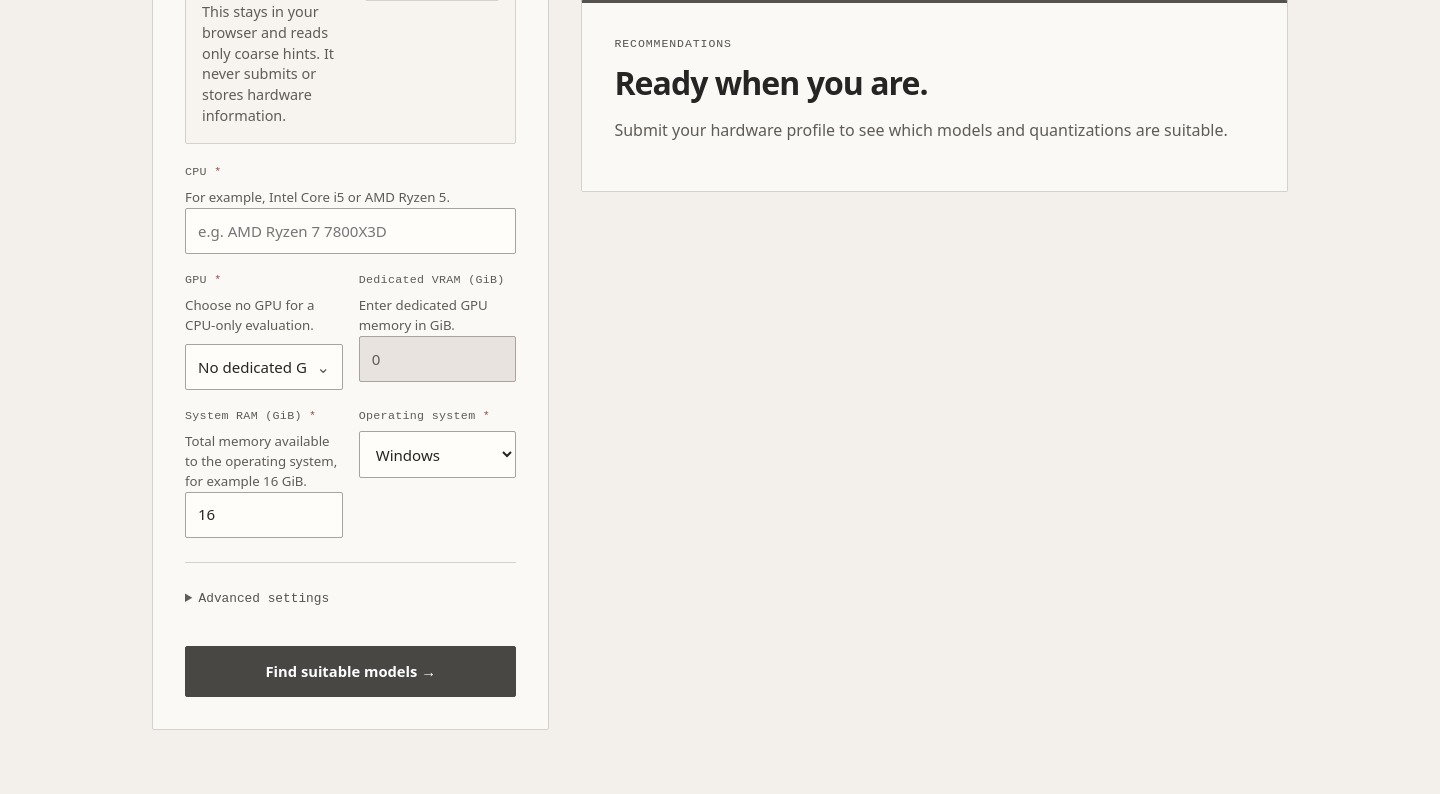
Test case: recommendations interface › includes GPT-OSS with sourced size and runtime caveats in recommendation results
(page scrolled)
Replace the text in the number field labelled "System RAM (GiB)" with "128". click: coordinates (264, 515)
box: [185,492,343,538]
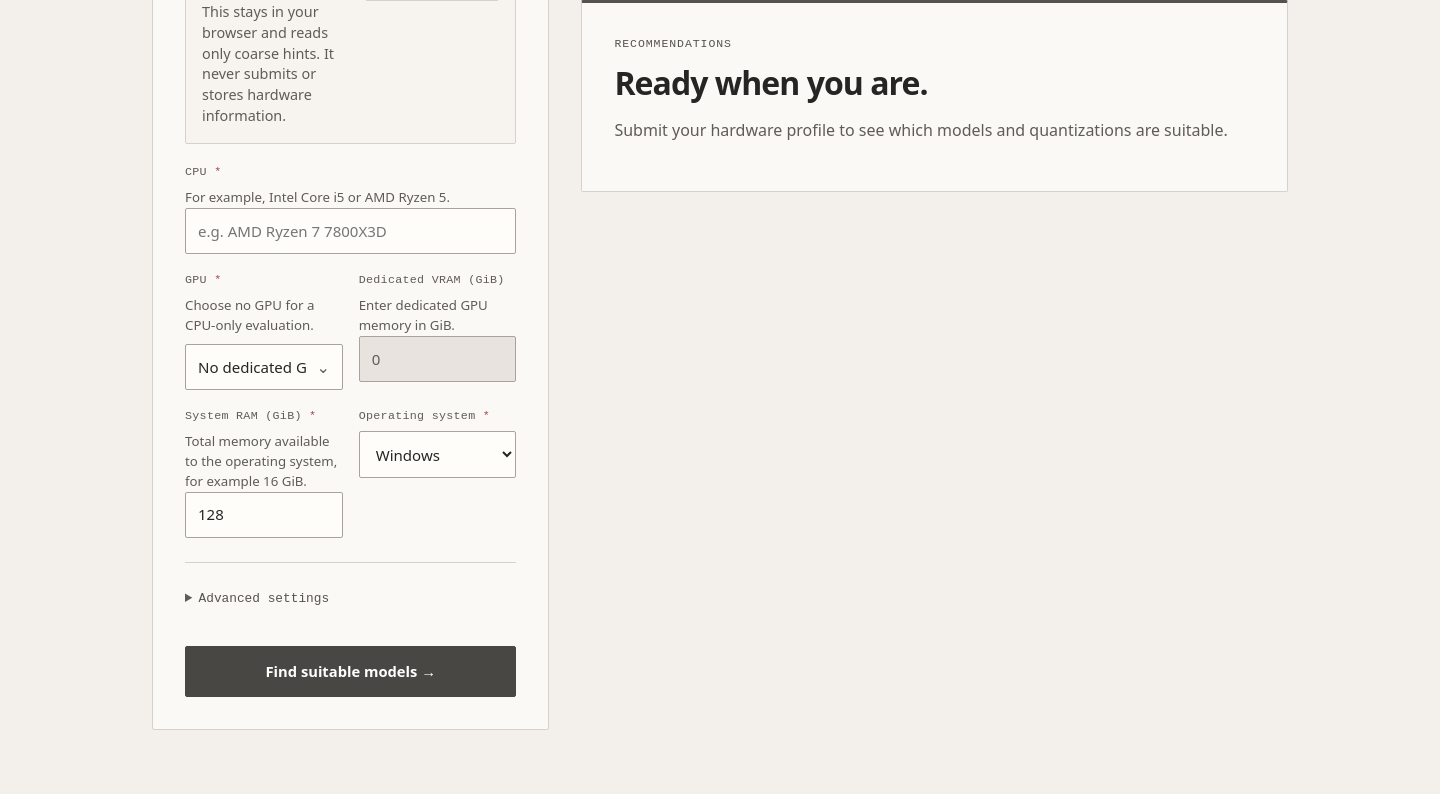
Type "AMD Ryzen 7 7800X3D" into the field labelled "CPU". click: coordinates (351, 231)
box: [185,208,516,254]
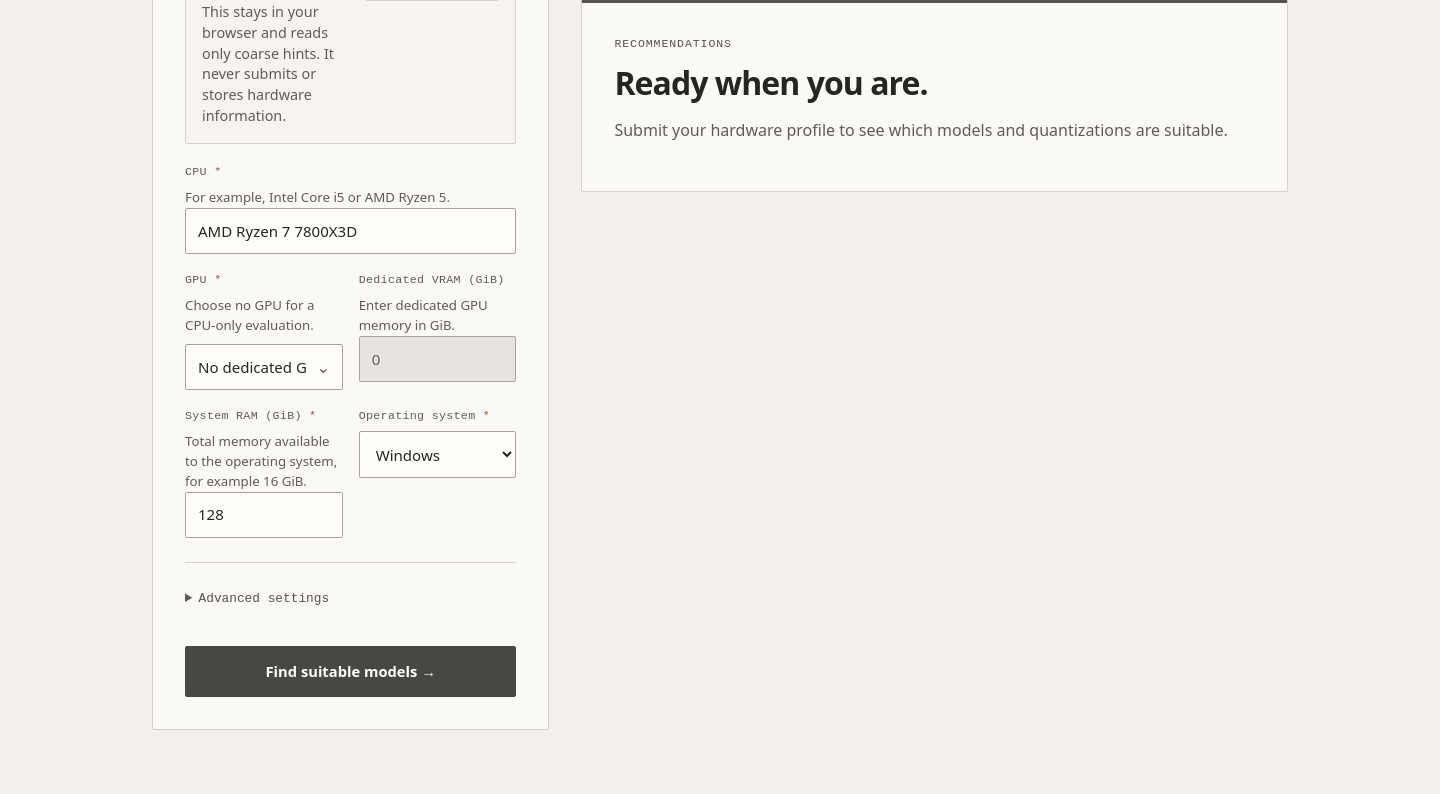
Click the button "Find suitable models →". click: coordinates (351, 672)
box: [185,646,516,697]
(page scrolled)
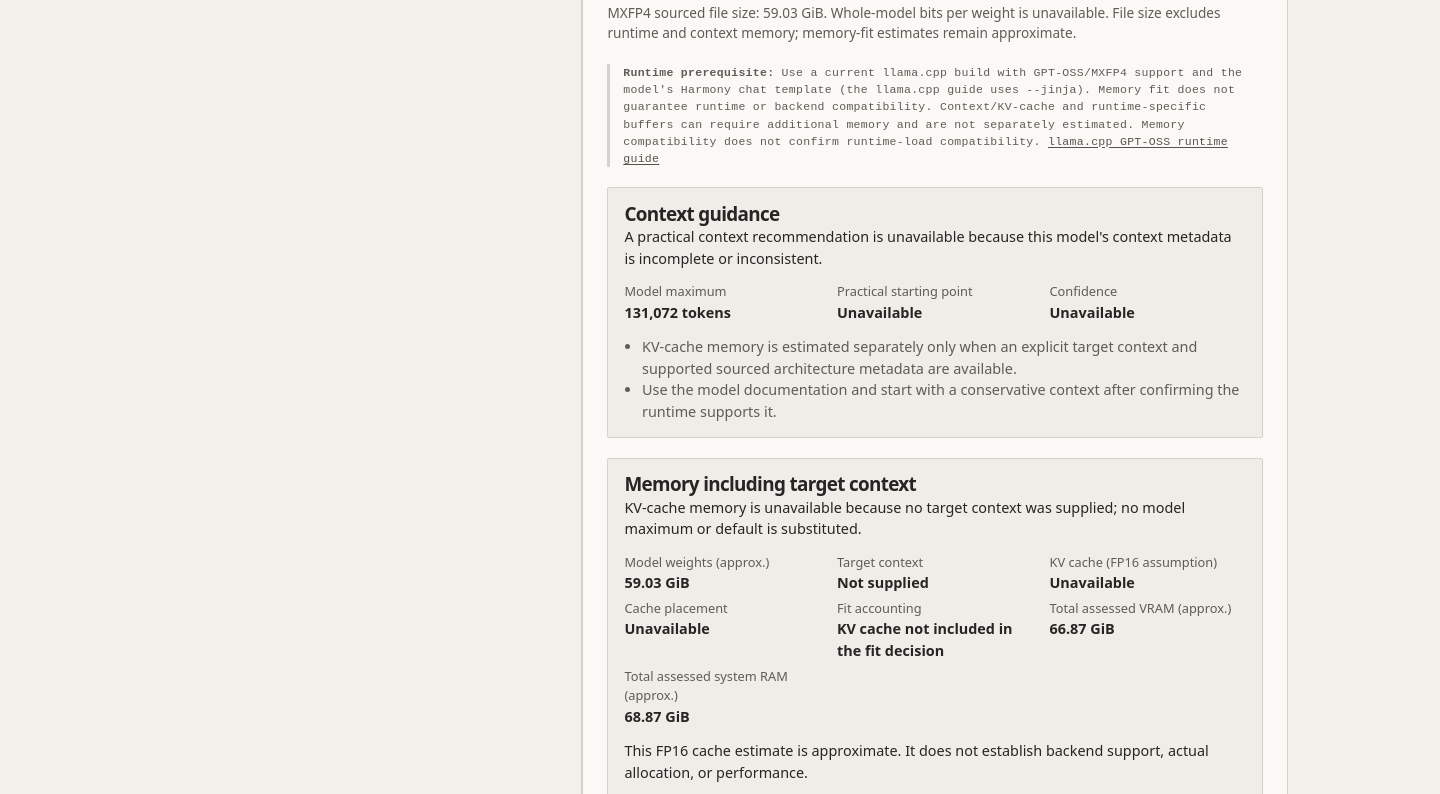
Expected: the element "OpenAI gpt-oss-120b" shows "Whole-model bits per weight is unavailable", [607,3,1220,42]
Expected: the element "OpenAI gpt-oss-120b" shows "memory-fit estimates remain approximate", [607,3,1220,42]
